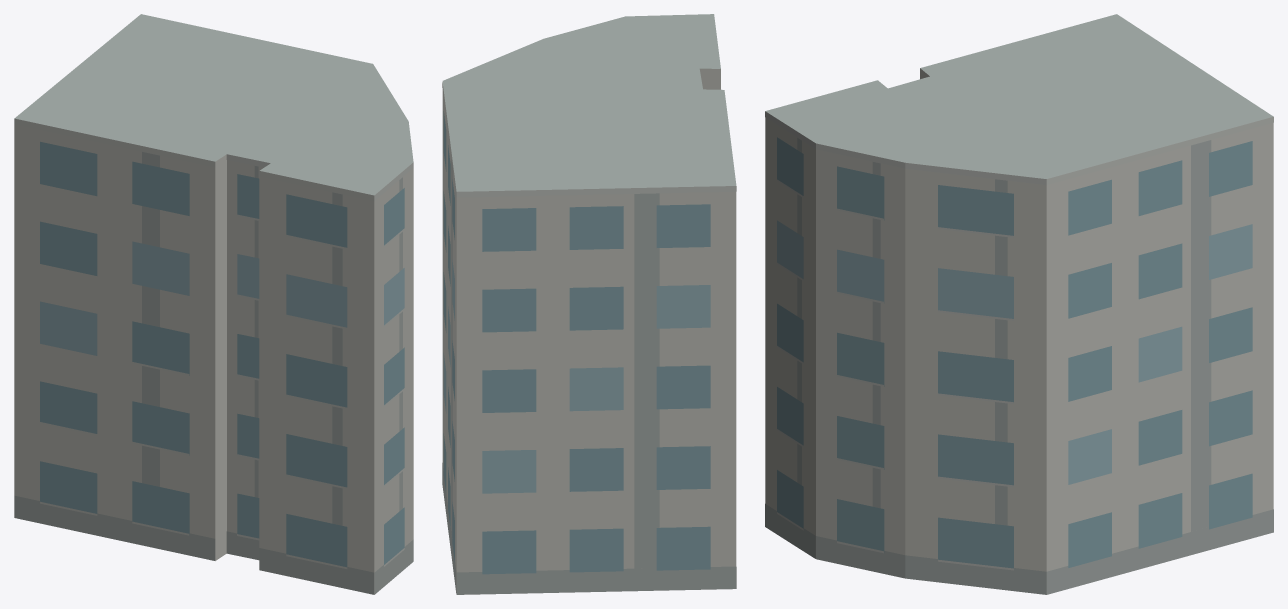
The model's file is survey-upis-32918042.glb.
3 views of the same model, side by side, from view 1: azimuth 30°, elevation 25°; view 2: azimuth 150°, elevation 25°; view 3: azimuth 270°, elevation 25° (orthographic). The views are drawn at different scales.
Parts seen in each view (by area): view 1: survey-upis-32918042.tmp; view 2: survey-upis-32918042.tmp; view 3: survey-upis-32918042.tmp.
Boxes of the visible parts, x1,y1,x2,y2 form: survey-upis-32918042.tmp: (14,14,413,594); survey-upis-32918042.tmp: (442,14,736,594); survey-upis-32918042.tmp: (765,14,1273,594).
Bounding box in the file's own units: 14.23 × 16.7 × 18.53.
